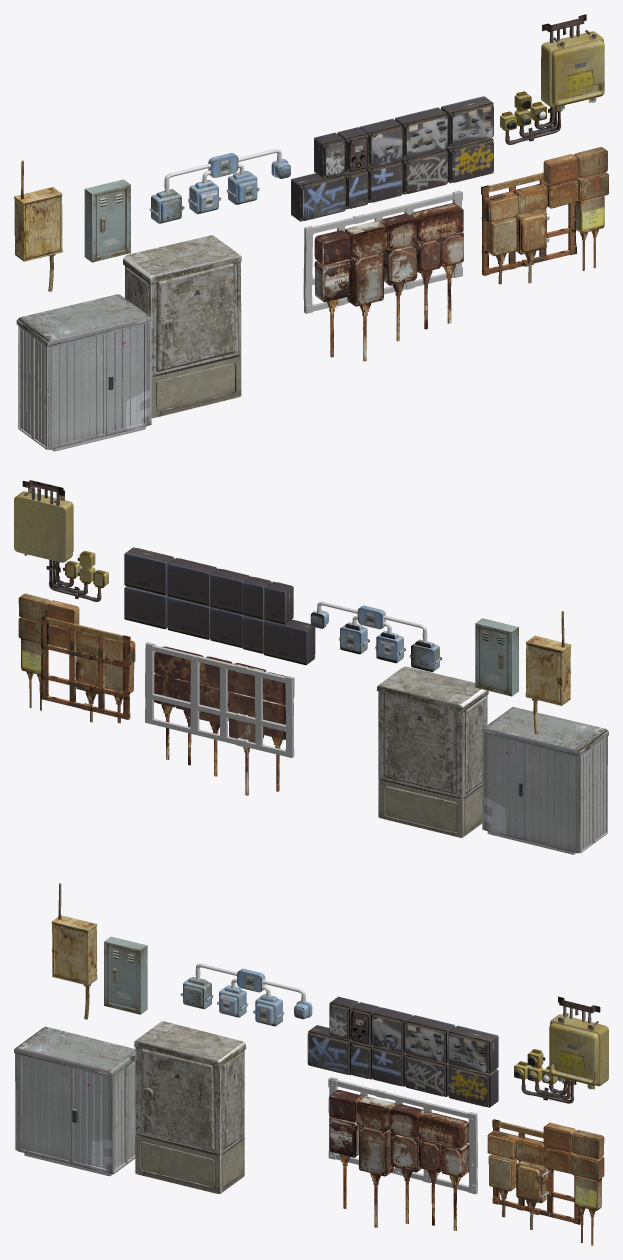
Rendered from fuse box.fbx.
3 renders of one model, top to bottom at view 1: azimuth 30°, elevation 25°; view 2: azimuth 150°, elevation 25°; view 3: azimuth 330°, elevation 25°, orthographic. The views are drawn at different scales.
Visible parts, largest first — view 1: Plane.001, Plane.003, Cube.009, Plane.002, Plane, Cylinder.001, Cube, Plane.004, Cube.002; view 2: Plane.003, Plane.001, Cube.009, Plane.002, Plane, Cylinder.001, Cube, Plane.004, Cube.002; view 3: Plane.003, Plane.001, Cube.009, Plane.002, Plane, Cylinder.001, Cube, Plane.004, Cube.002.
Part boxes in pixels (box(x1,y1,x2,y2)): Plane.001: box(16, 294, 151, 451); Plane.003: box(123, 235, 241, 418); Cube.009: box(291, 96, 493, 221); Plane.002: box(303, 190, 463, 361); Plane: box(481, 147, 608, 284); Cylinder.001: box(500, 14, 604, 144); Cube: box(149, 149, 290, 223); Plane.004: box(84, 179, 130, 262); Cube.002: box(14, 160, 62, 291); Plane.003: box(376, 666, 488, 837); Plane.001: box(482, 707, 608, 854); Cube.009: box(124, 547, 315, 665); Plane.002: box(145, 642, 294, 795); Plane: box(18, 593, 135, 723); Cylinder.001: box(14, 480, 108, 601); Cube: box(310, 601, 442, 672); Plane.004: box(475, 618, 518, 696); Cube.002: box(525, 611, 571, 734); Plane.003: box(134, 1021, 246, 1193); Plane.001: box(14, 1026, 135, 1176); Cube.009: box(307, 996, 498, 1107); Plane.002: box(328, 1077, 477, 1230); Plane: box(487, 1119, 604, 1245); Cylinder.001: box(514, 996, 608, 1103); Cube: box(180, 963, 312, 1026); Plane.004: box(104, 936, 147, 1014); Cube.002: box(51, 883, 97, 1019).
Bounding box in the file's own units: 561 × 258 × 69.87.
